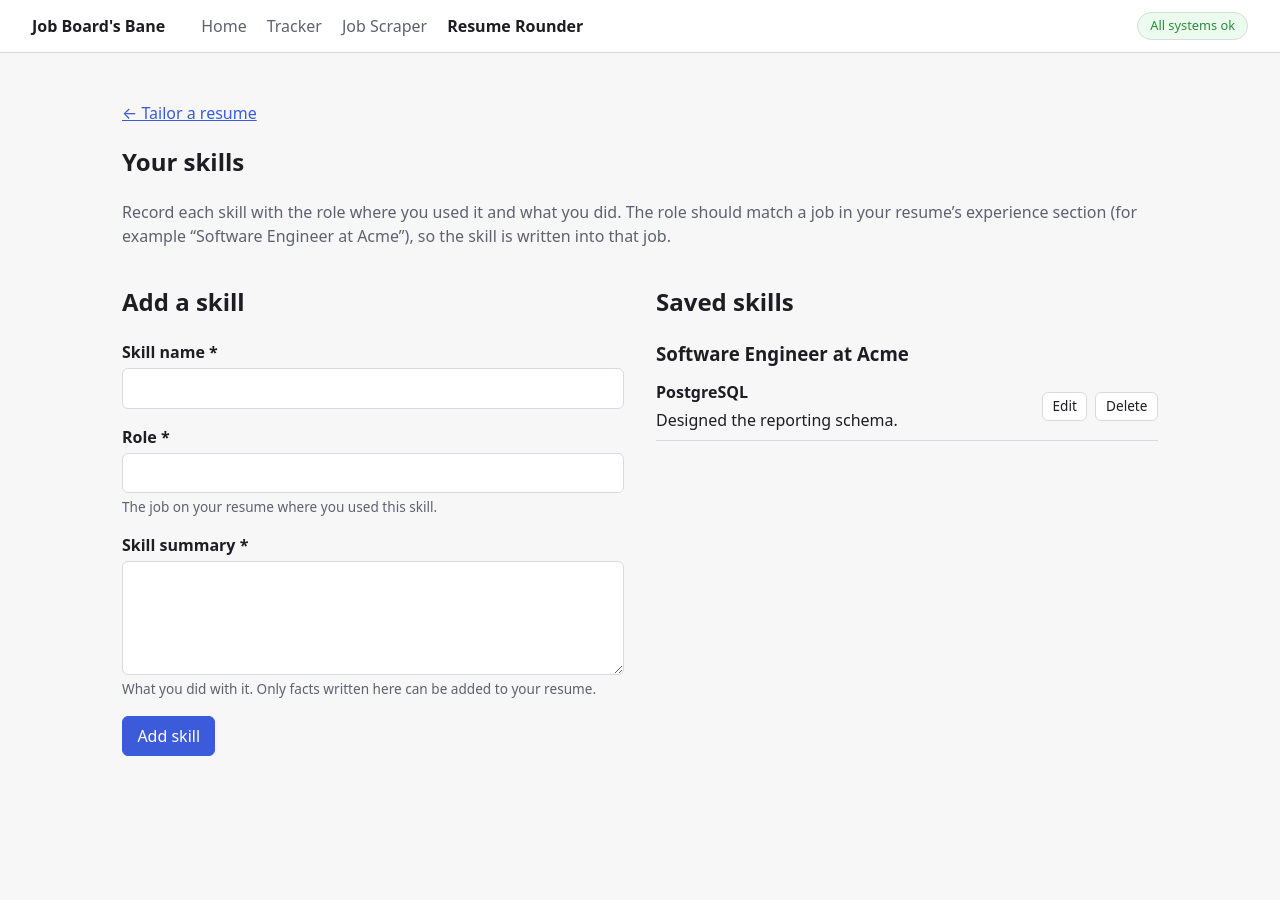
Test: SkillsPage › deletes a skill
The image size is (1280, 900).
What coordinates should you click on to do the following:
click the button with aria-label "Delete PostgreSQL (Software Engineer at Acme)"
I would click on:
 (1127, 406)
Its box is left=1096, top=392, right=1158, bottom=421.
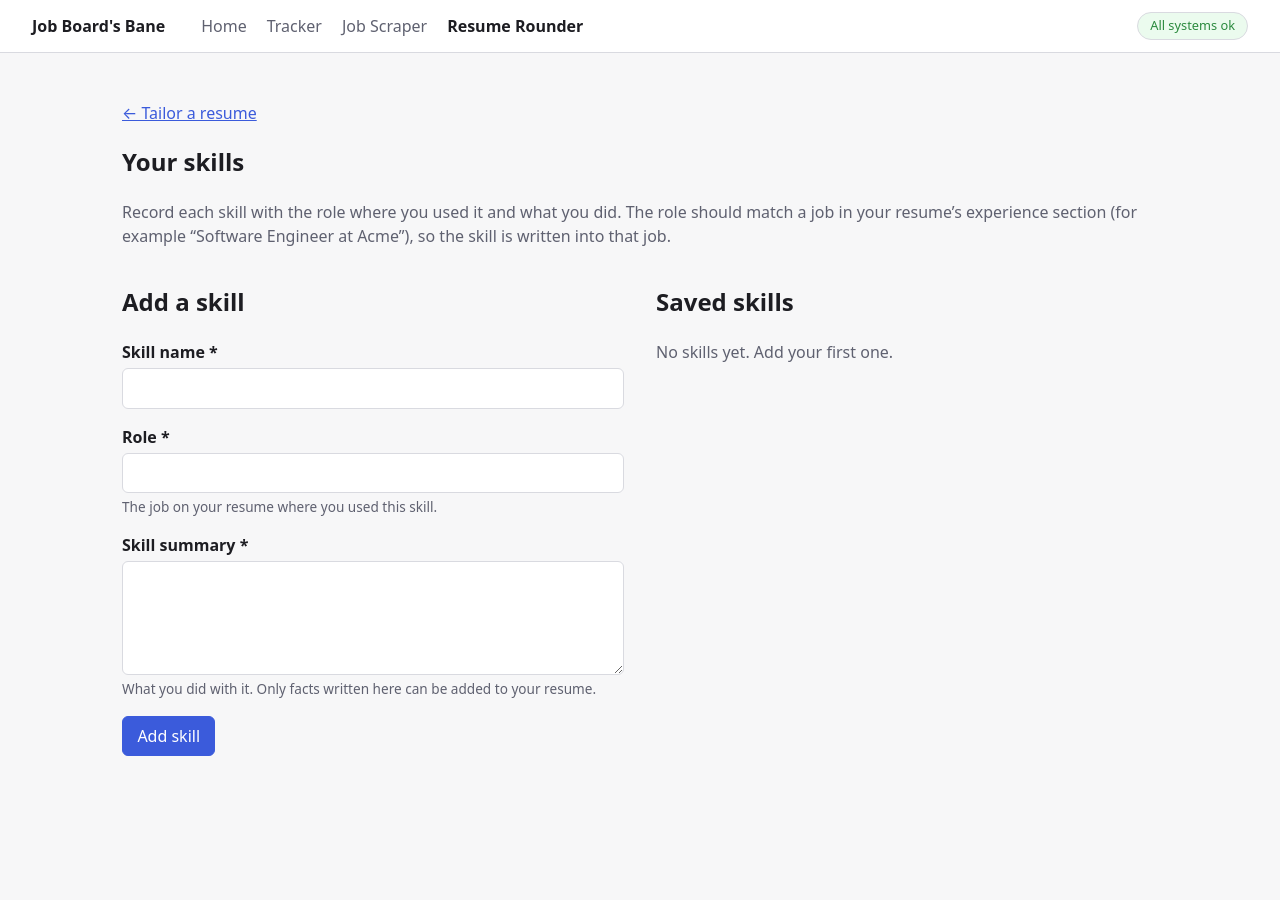
Expected: the text "No skills yet. Add your first one." is shown, left=656, top=341, right=893, bottom=363
